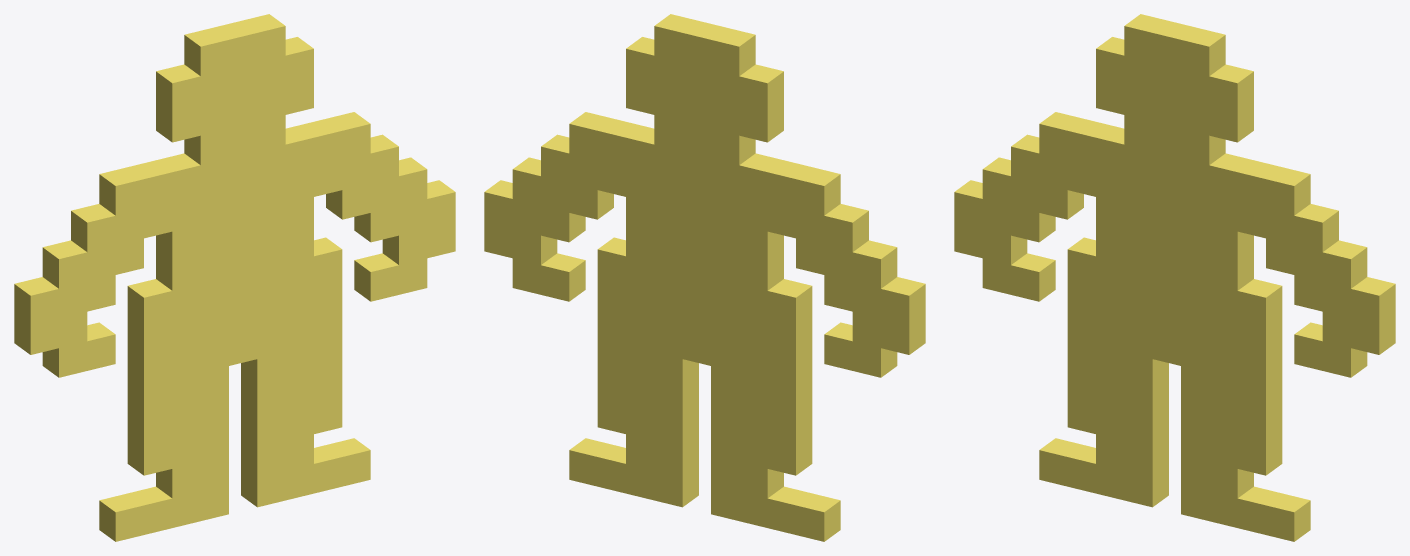
The model's file is Dwarf-Yellow.vox.obj.
3 renders of one model, left to right at view 1: azimuth 30°, elevation 25°; view 2: azimuth 150°, elevation 25°; view 3: azimuth 330°, elevation 25°, orthographic.
Size of the model in its own units: 1.5 by 1.6 by 0.1.
Materials: 1 (1 with a texture image).
